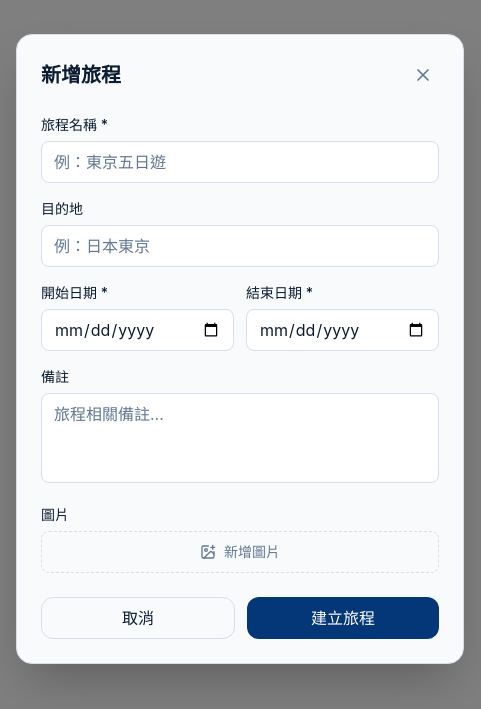
it: AddTripModal › shows an error and does not create a trip when the end date is before the start date
Type "My Trip" into the field with placeholder "例：東京五日遊" at (240, 162), box [41,141,439,183]
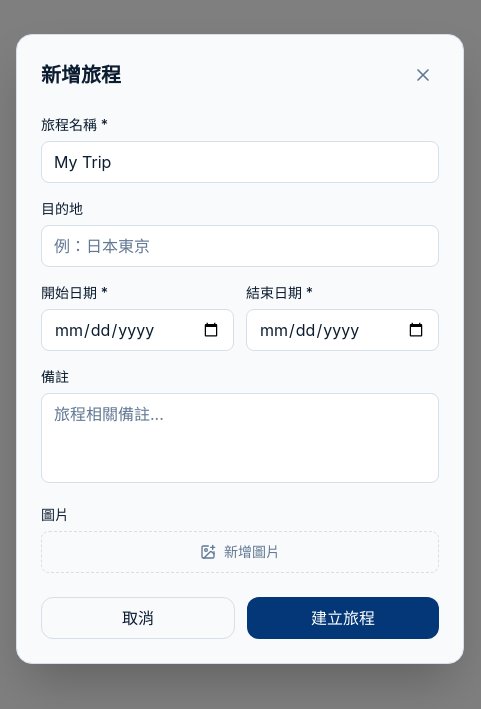
Type "2026-01-10" into the date field below "開始日期 *" at (138, 330), box [41,309,234,351]
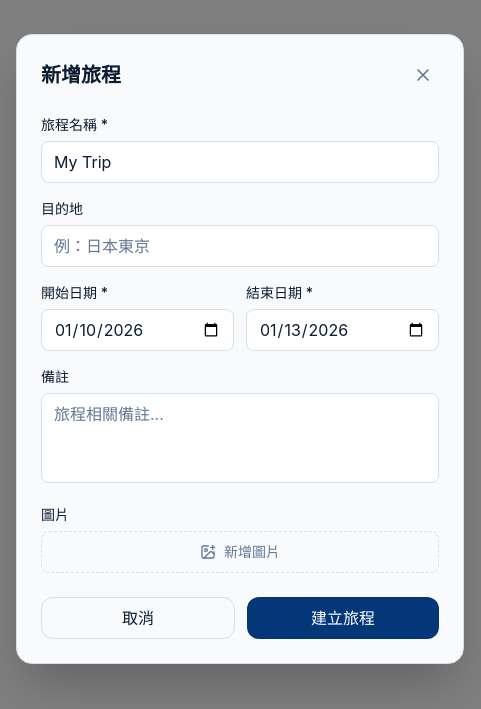
Type "2026-01-05" into the date field named "endDate" below "結束日期 *" at (342, 330), box [246,309,439,351]
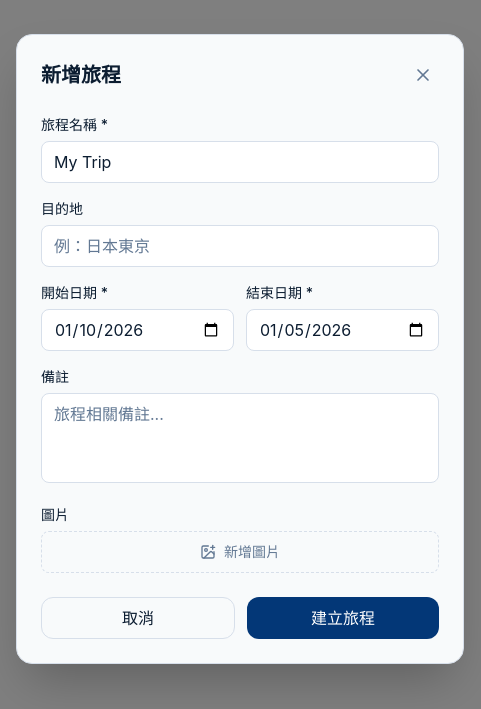
Submit the form
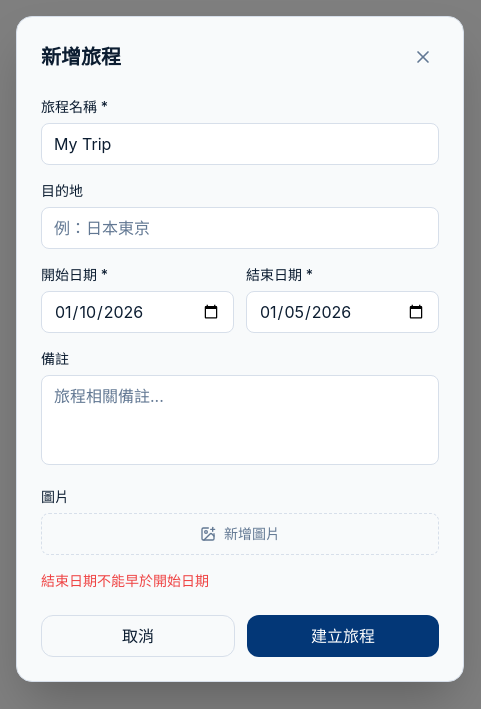
Expected: the text "結束日期不能早於開始日期" is shown, [41,572,209,589]
